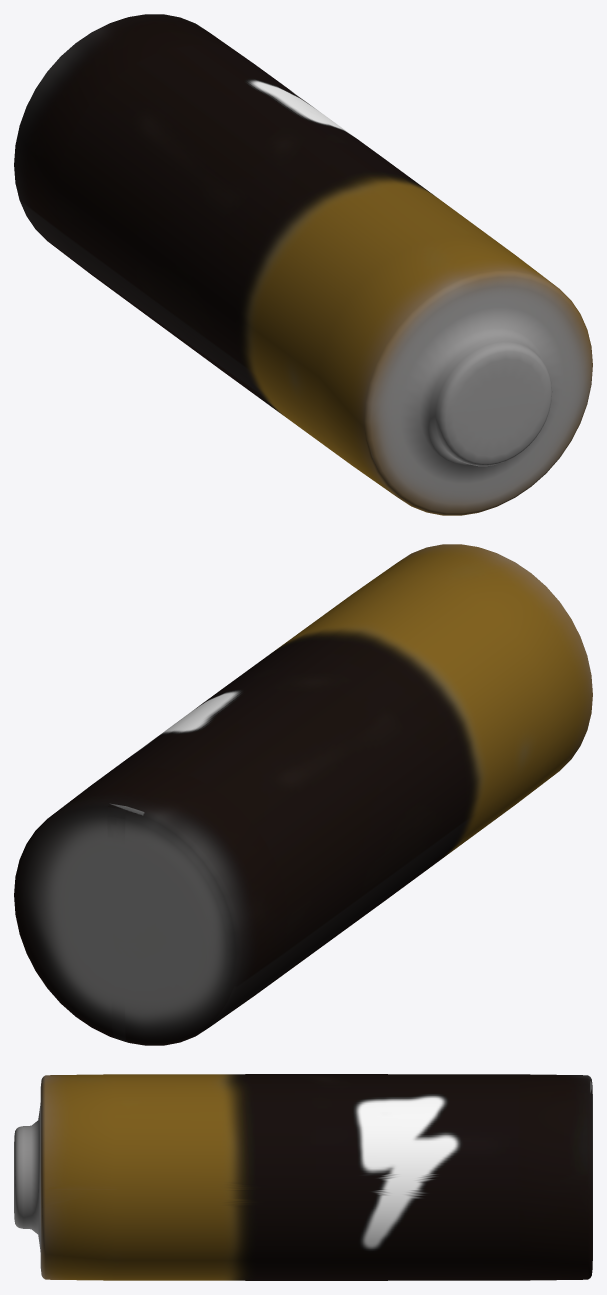
Rendered from battery_mdbx.fbx.
The picture shows the model from 3 angles, top to bottom: view 1: azimuth 30°, elevation 25°; view 2: azimuth 150°, elevation 25°; view 3: azimuth 270°, elevation 25°; orthographic projection. The views are drawn at different scales.
Parts seen in each view (by area): view 1: pCylinder1; view 2: pCylinder1; view 3: pCylinder1.
Boxes of the visible parts, x1=… form: pCylinder1: x1=14, y1=14, x2=592, y2=515; pCylinder1: x1=14, y1=544, x2=592, y2=1045; pCylinder1: x1=14, y1=1074, x2=592, y2=1280.
Size of the model in its own units: 0.7493 by 0.7493 by 2.1.
1 material, 1 textured.
